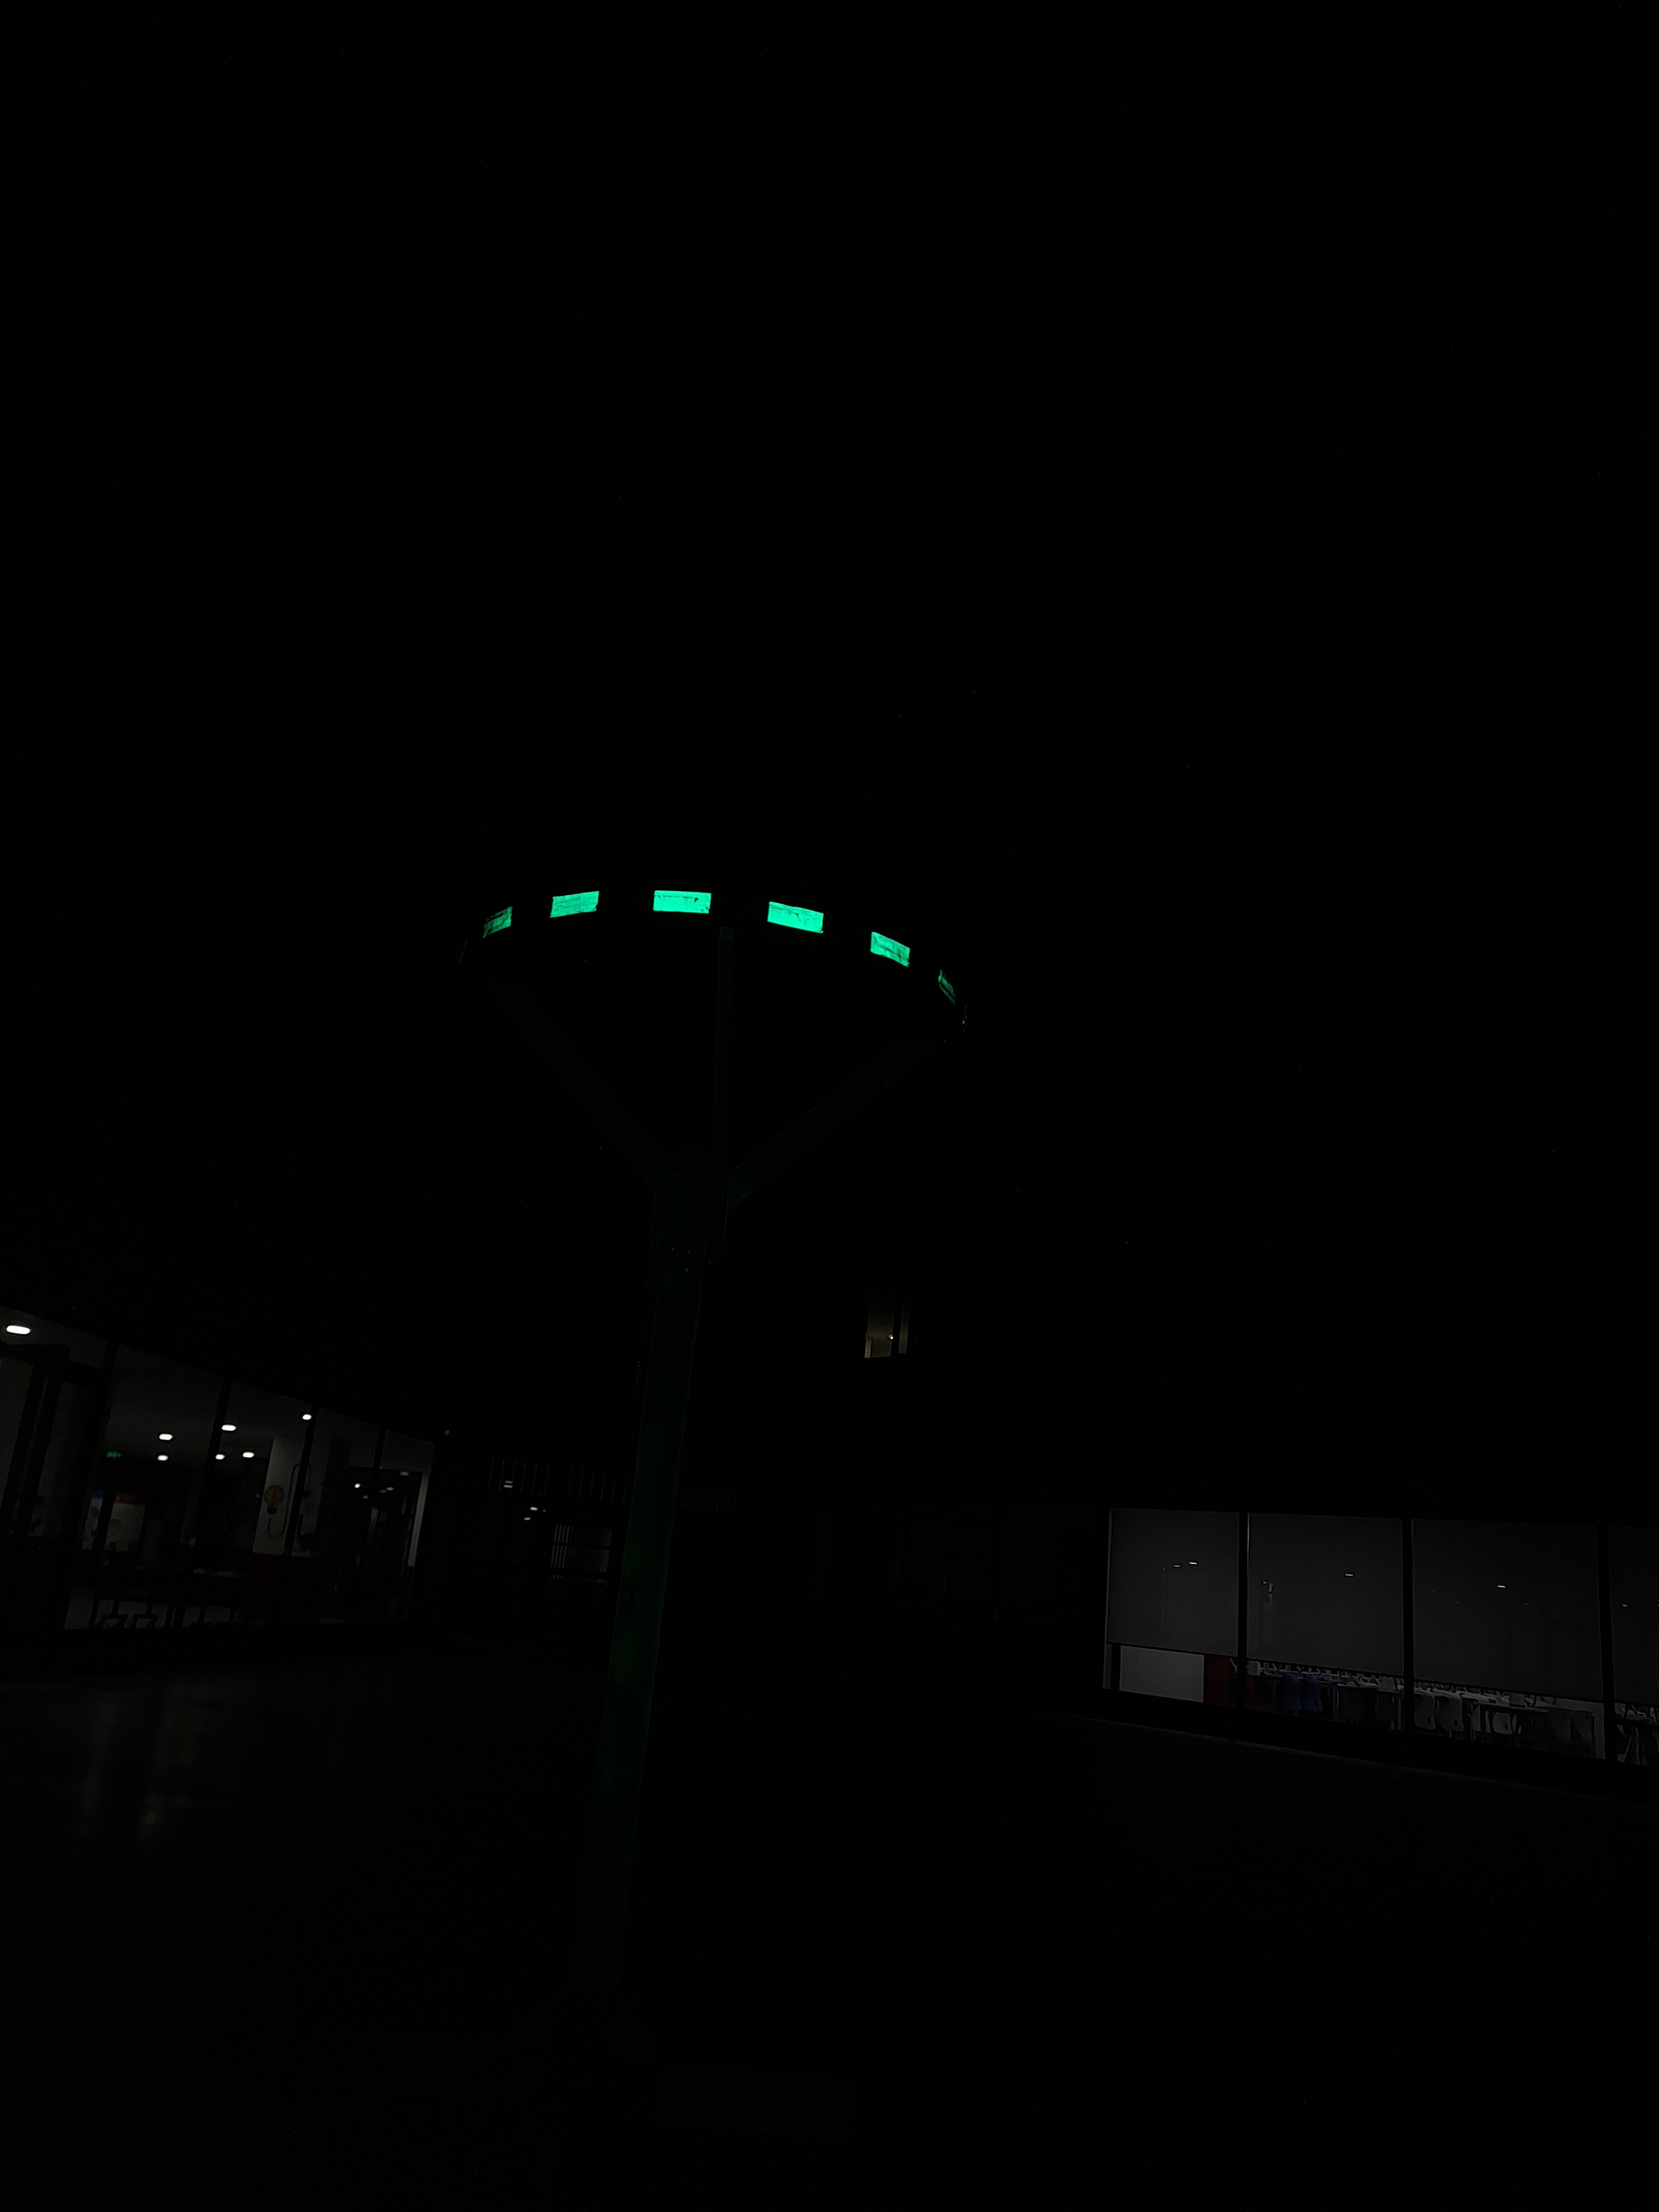hoop: (479, 867, 915, 991)
